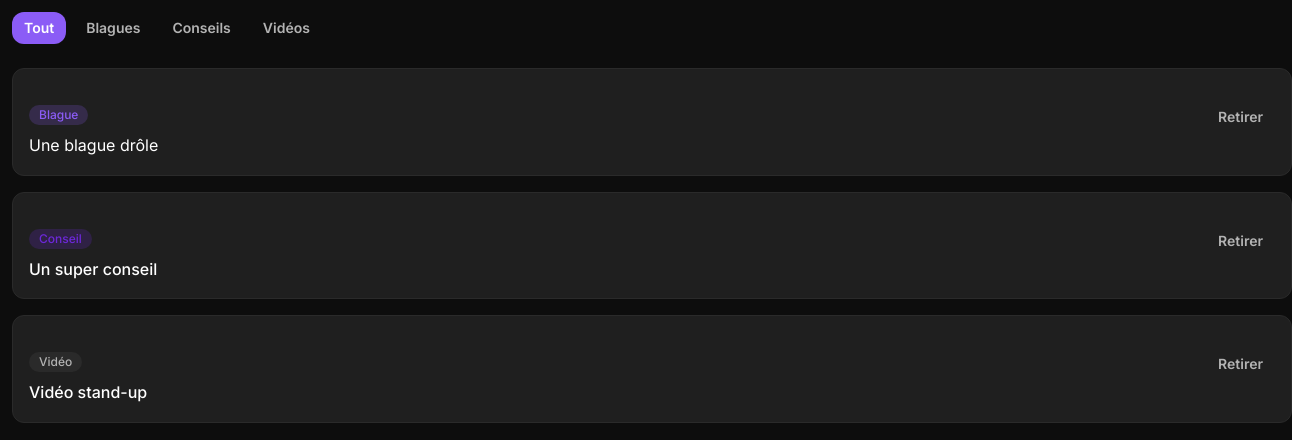
FavorisList › filters by TIP tab
Click the button "Conseils".
click(202, 28)  # box [160,12,243,44]
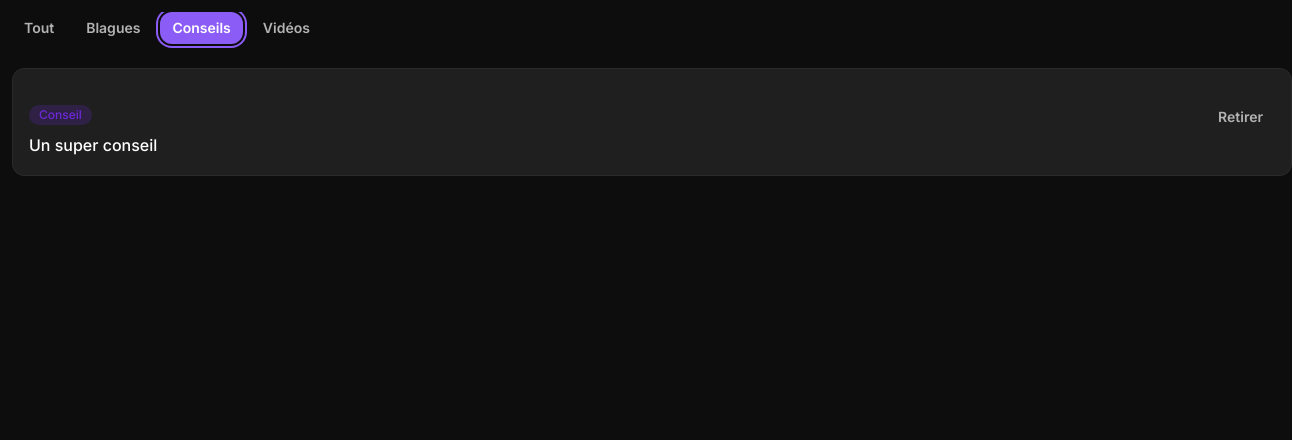
Check: the text "Un super conseil" is shown, box [29,135,157,155]
Check: the text "Une blague drôle" is gone
